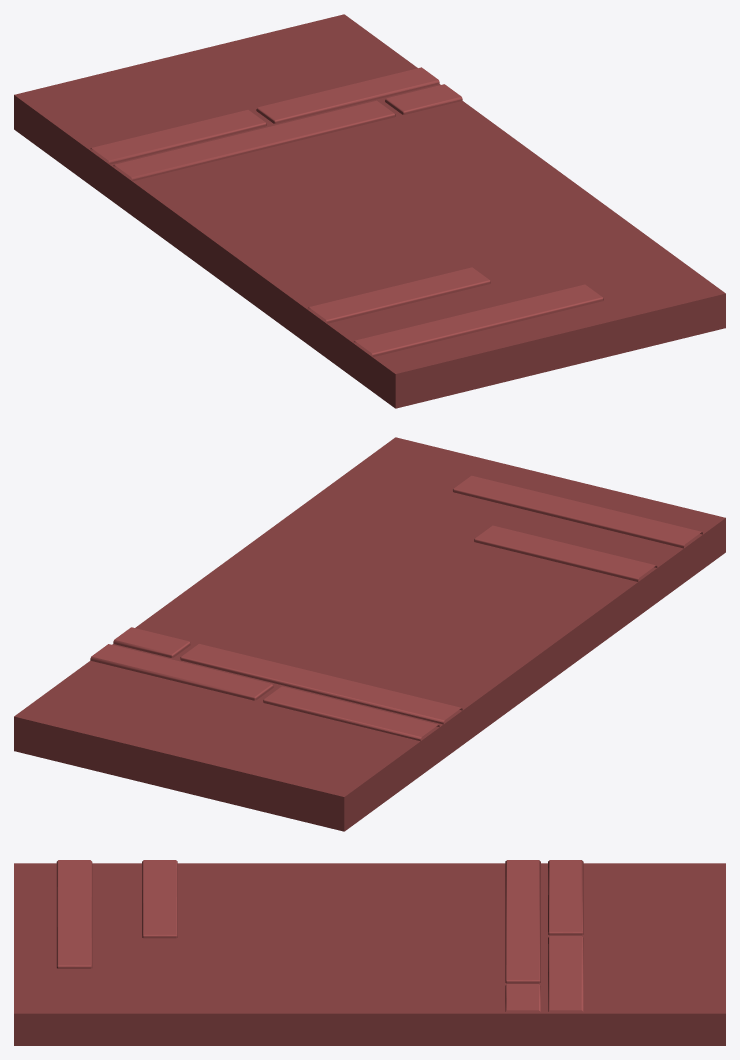
File: Floor1B.fbx
The picture shows the model from 3 angles, top to bottom: view 1: azimuth 30°, elevation 25°; view 2: azimuth 150°, elevation 25°; view 3: azimuth 270°, elevation 25°; orthographic projection. The views are drawn at different scales.
Parts seen in each view (by area): view 1: Floor1B; view 2: Floor1B; view 3: Floor1B.
Part boxes in pixels (<box>): Floor1B: <box>14,14,725,408</box>; Floor1B: <box>14,437,725,831</box>; Floor1B: <box>14,860,725,1045</box>.
Bounding box in the file's own units: 1.3 × 0.143 × 2.6.
